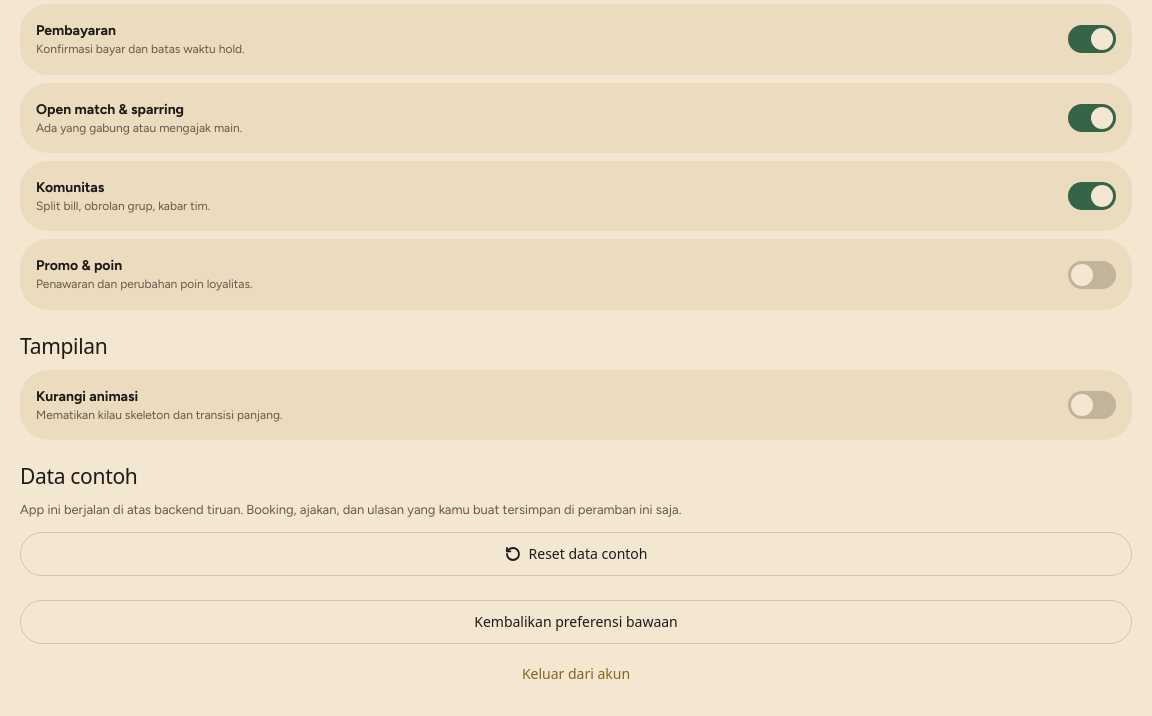
Scenario: SettingsScreen › meminta konfirmasi sebelum reset data contoh
The image size is (1152, 716).
(page scrolled)
Click the button "Reset data contoh" at (576, 554), box [20,532,1132,576]
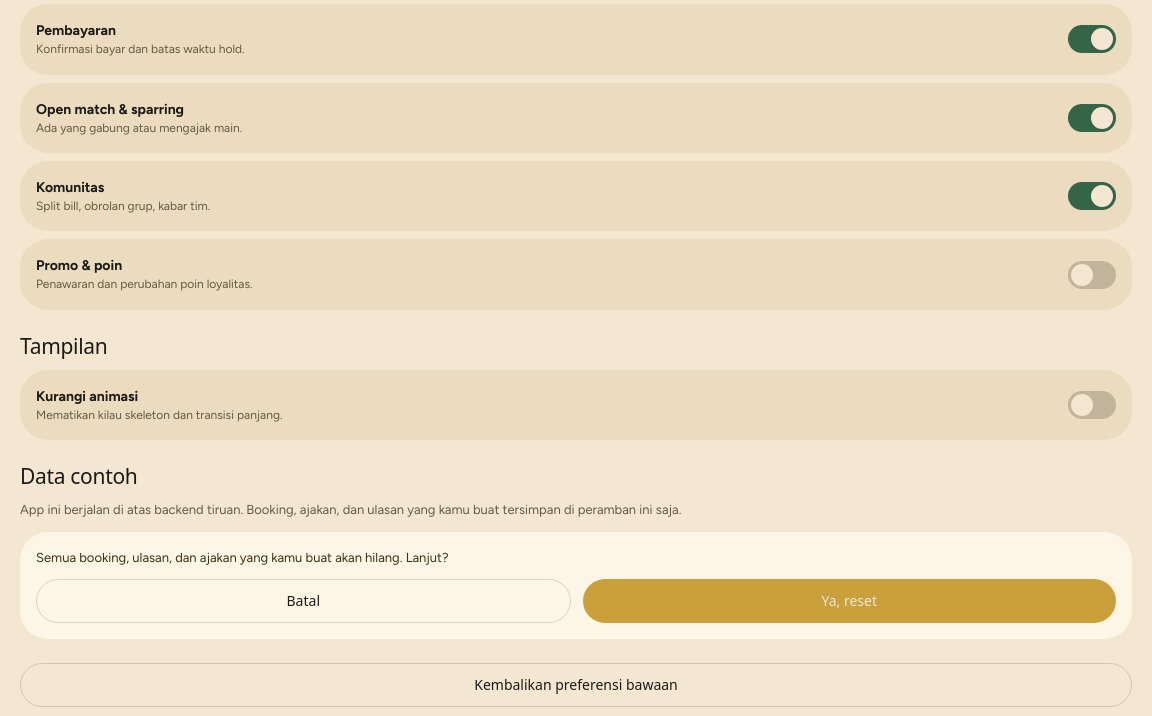
Result: the message shows "akan hilang" at [36,550,448,565]
Click the button "Batal" at (303, 601), box [36,579,570,623]
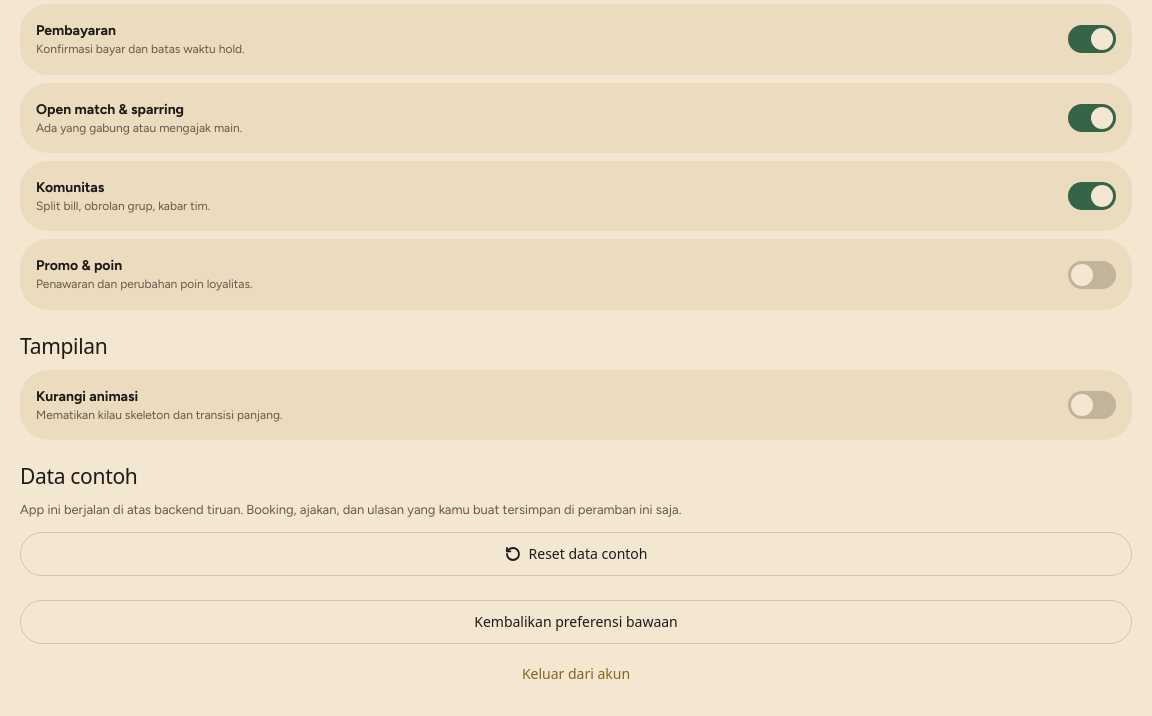
Result: the message "Semua booking, ulasan, dan ajakan yang kamu buat akan hilang. Lanjut? Batal Ya," is gone
